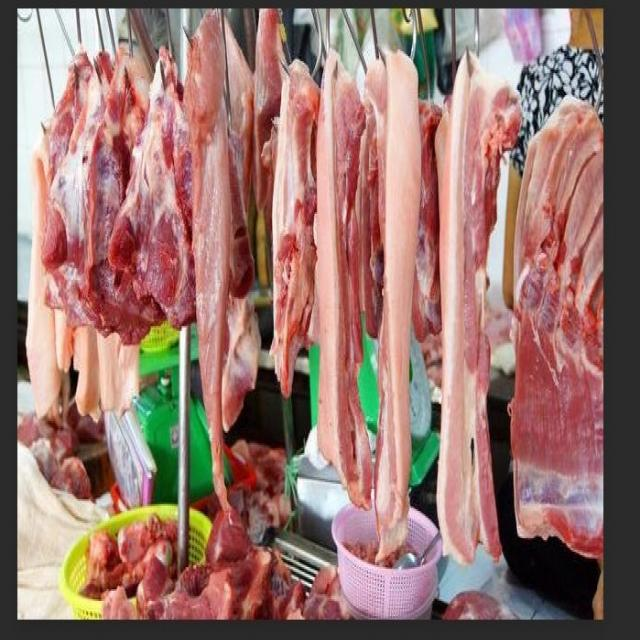pork: (504, 87, 607, 574), (430, 48, 508, 578), (189, 11, 256, 520), (98, 495, 304, 629), (316, 43, 372, 516), (366, 46, 414, 569), (37, 50, 121, 337), (78, 36, 151, 349), (131, 30, 189, 338), (268, 53, 319, 391), (409, 93, 446, 389), (247, 0, 289, 210)
